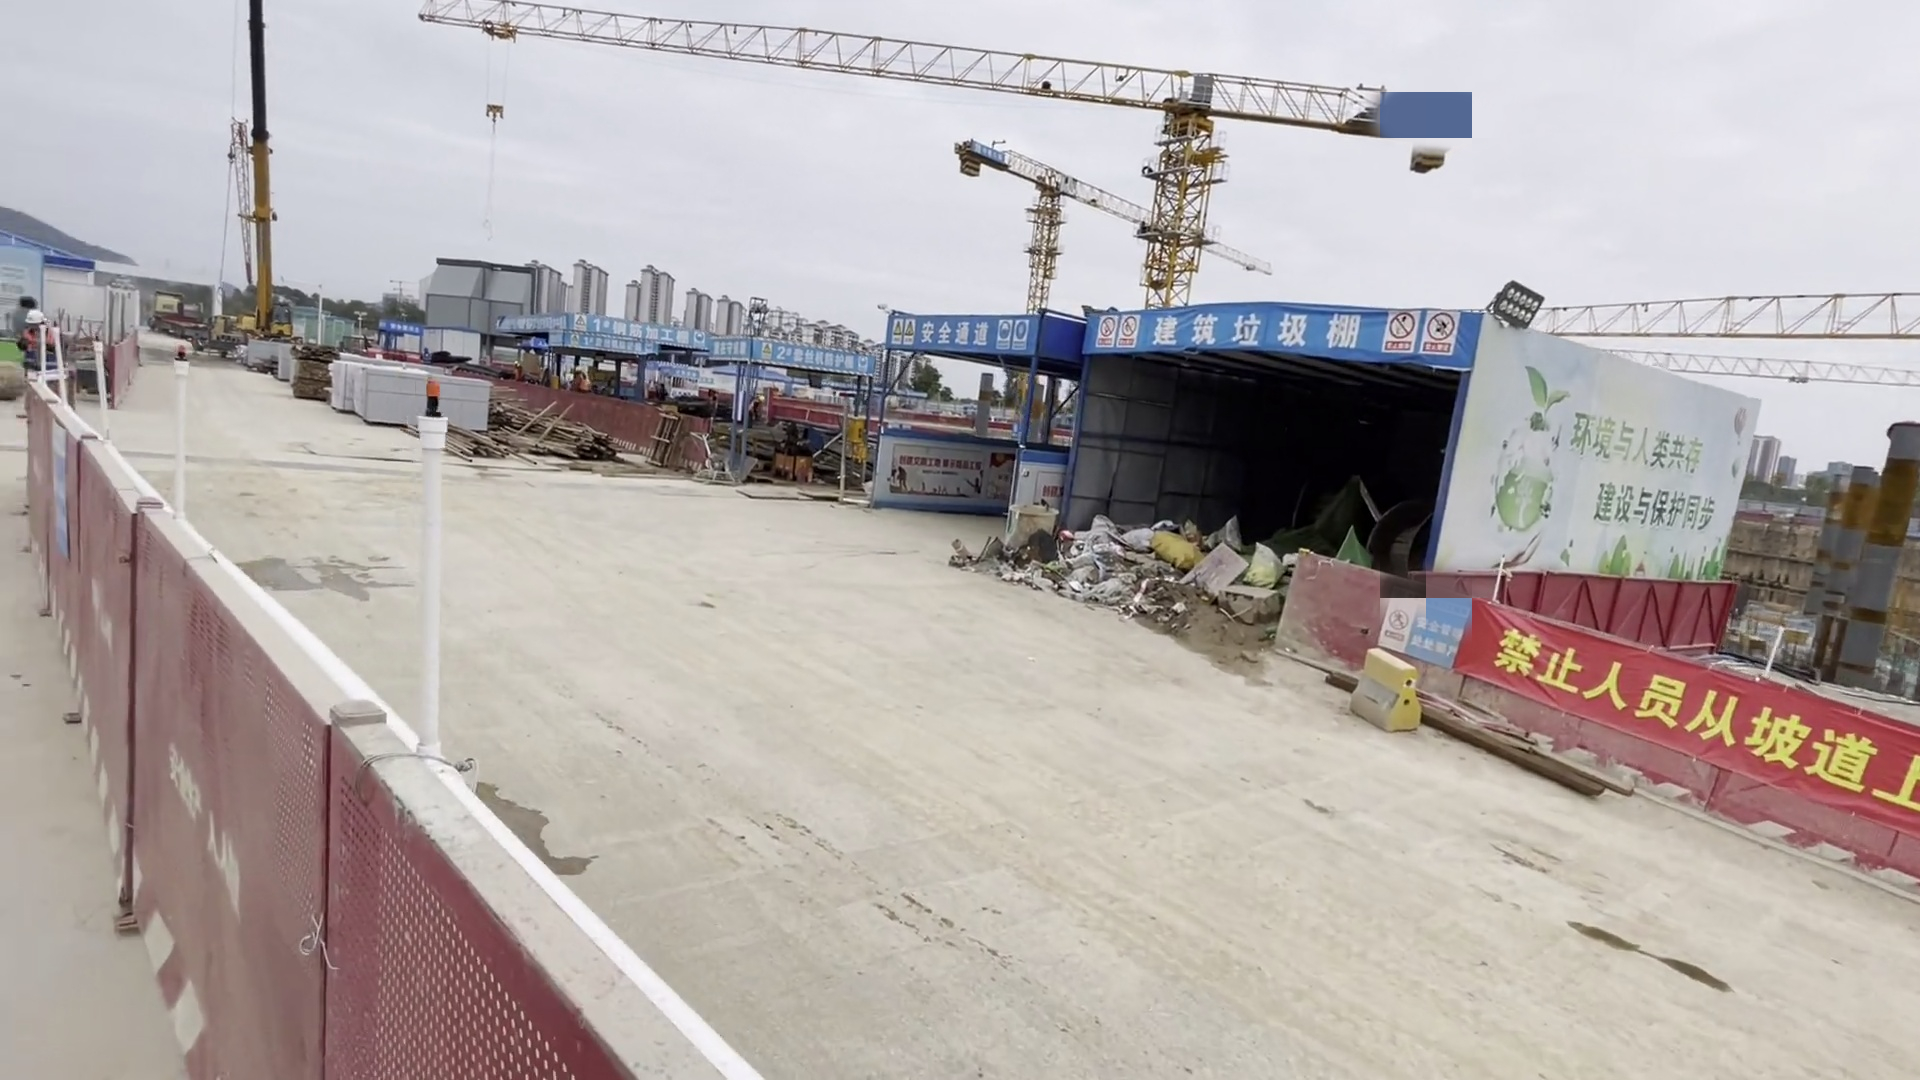brick: (353, 371, 498, 429)
fence: (17, 372, 589, 1080)
scaffold: (484, 103, 498, 117)
slogan: (1445, 599, 1920, 808), (1493, 372, 1731, 570), (902, 305, 1466, 377), (491, 307, 869, 378)
